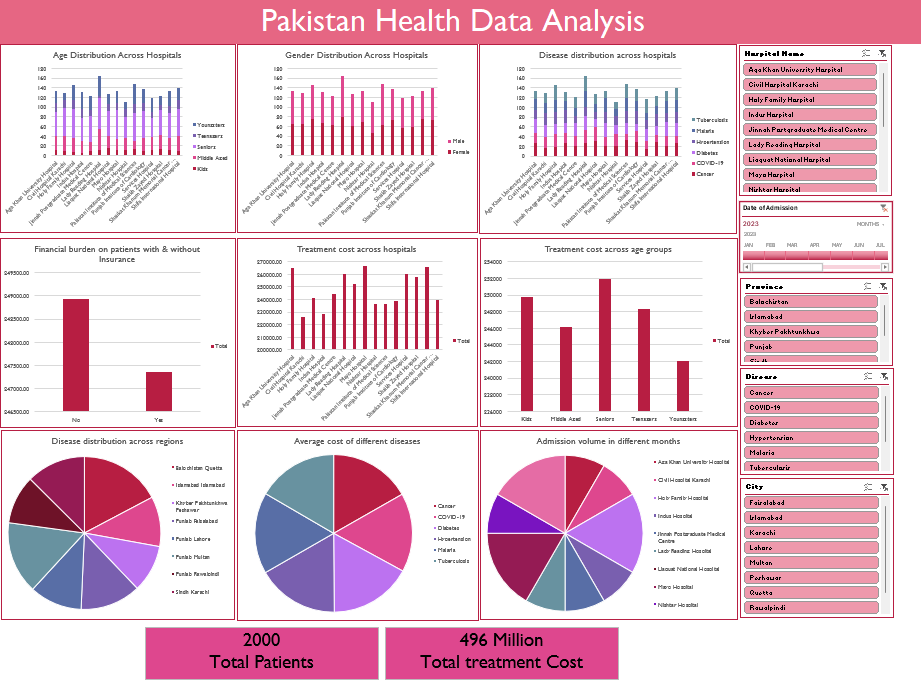

The page's visual inventory and layout, read from the dashboard file:
{"tool":"powerbi","page":{"name":"Page 1","canvas":[1280,720],"ordinal":0},"visuals":[{"type":"barChart","title":"                 Age distribution across hospitals","fields":{"Category":["Pakistan_Health_Data.Hospital Name"],"Y":["Pakistan_Health_Data.Age"]},"box":[7.3,89.3,342.4,201.8],"z":0},{"type":"card","fields":{"Values":["Pakistan_Health_Data.Patient Name"]},"box":[398.6,2.4,249.5,84.4],"z":1000},{"type":"card","fields":{"Values":["Pakistan_Health_Data.Treatment Cost"]},"box":[661.6,3.7,247,83.2],"z":2000},{"type":"clusteredBarChart","title":"Gender distribution Across Hospitals","fields":{"Category":["Pakistan_Health_Data.Hospital Name"],"Y":["Pakistan_Health_Data.Gender"],"Series":["Pakistan_Health_Data.Gender"]},"box":[364.4,89.3,342.4,201.8],"z":3000},{"type":"clusteredBarChart","title":"Disease distribution","fields":{"Y":["Pakistan_Health_Data.Unique_id"],"Category":["Pakistan_Health_Data.Disease"]},"box":[721.5,89.3,341.2,201.8],"z":4000},{"type":"slicer","fields":{"Values":["Pakistan_Health_Data.Hospital Name"]},"box":[1072.4,89.3,196.9,150.4],"z":5000},{"type":"clusteredBarChart","title":"Financial burden on patients with & without Insurance\n","fields":{"Y":["Pakistan_Health_Data.Unique_id"],"Category":["Pakistan_Health_Data.Insurance"]},"box":[7.3,302,342.4,188.3],"z":6000},{"type":"barChart","title":"Treatment cost across hospitals","fields":{"Category":["Pakistan_Health_Data.Hospital Name"],"Y":["Pakistan_Health_Data.Treatment Cost"]},"box":[721.5,302,342.4,188.3],"z":7000},{"type":"barChart","title":"Treatment cost across age groups","fields":{"Y":["Pakistan_Health_Data.Treatment Cost"],"Category":["Pakistan_Health_Data.Age_category"]},"box":[364.4,302,341.2,188.3],"z":8000},{"type":"slicer","fields":{"Values":["Pakistan_Health_Data.City"]},"box":[1073.6,242.1,195.7,140.6],"z":9000},{"type":"slicer","fields":{"Values":["Pakistan_Health_Data.Province"]},"box":[1073.6,386.4,195.7,145.5],"z":10000},{"type":"slicer","fields":{"Values":["Pakistan_Health_Data.Disease"]},"box":[1073.6,536.8,196.9,176.1],"z":11000},{"type":"pieChart","title":"Average cost of different diseases\n","fields":{"Category":["Pakistan_Health_Data.Disease"],"Y":["Pakistan_Health_Data.Treatment Cost"]},"box":[364.4,501.4,342.4,211.6],"z":12000},{"type":"lineChart","title":"Admission volume in different months\n","fields":{"Category":["Pakistan_Health_Data.Date of Admission.Variation.Date Hierarchy.Month"],"Y":["Pakistan_Health_Data.Unique_id"]},"box":[721.5,501.4,341.2,211.6],"z":13000},{"type":"map","title":"        Treatment Cost by Province","fields":{"Category":["Pakistan_Health_Data.City","Pakistan_Health_Data.Province"],"Series":["Pakistan_Health_Data.Province"],"Size":["Pakistan_Health_Data.Treatment Cost"]},"box":[7.3,498.9,342.4,214],"z":15000}]}

Visuals, with their boxes on the page's 1280x720 design canvas (x1, y1, x2, y2). These are canvas units, not pixel positions in the 921x696 screenshot, which may show the page scaled, cropped or inside an application window:
"                 Age distribution across hospitals" barChart: l=7, t=89, r=350, b=291
card - Pakistan_Health_Data.Patient Name: l=399, t=2, r=648, b=87
card - Pakistan_Health_Data.Treatment Cost: l=662, t=4, r=909, b=87
"Gender distribution Across Hospitals" clusteredBarChart: l=364, t=89, r=707, b=291
"Disease distribution" clusteredBarChart: l=722, t=89, r=1063, b=291
slicer - Pakistan_Health_Data.Hospital Name: l=1072, t=89, r=1269, b=240
"Financial burden on patients with & without Insurance
" clusteredBarChart: l=7, t=302, r=350, b=490
"Treatment cost across hospitals" barChart: l=722, t=302, r=1064, b=490
"Treatment cost across age groups" barChart: l=364, t=302, r=706, b=490
slicer - Pakistan_Health_Data.City: l=1074, t=242, r=1269, b=383
slicer - Pakistan_Health_Data.Province: l=1074, t=386, r=1269, b=532
slicer - Pakistan_Health_Data.Disease: l=1074, t=537, r=1270, b=713
"Average cost of different diseases
" pieChart: l=364, t=501, r=707, b=713
"Admission volume in different months
" lineChart: l=722, t=501, r=1063, b=713
"        Treatment Cost by Province" map: l=7, t=499, r=350, b=713
